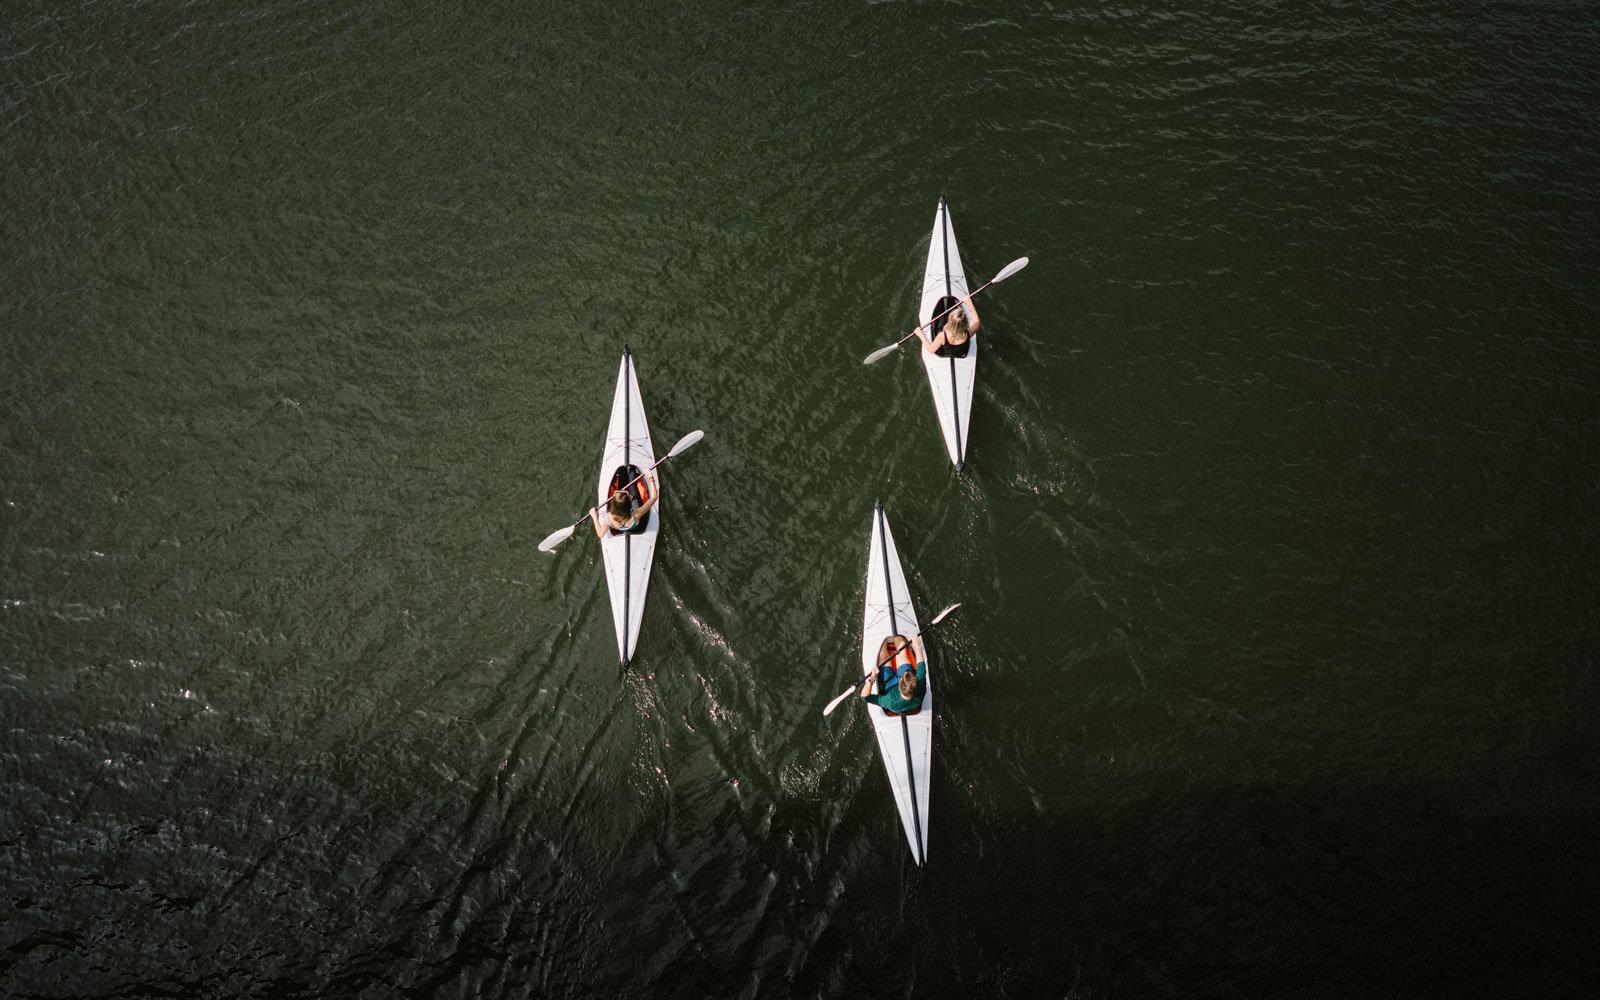kayaker: (817, 492, 973, 886), (530, 340, 706, 682), (858, 190, 1036, 475)
